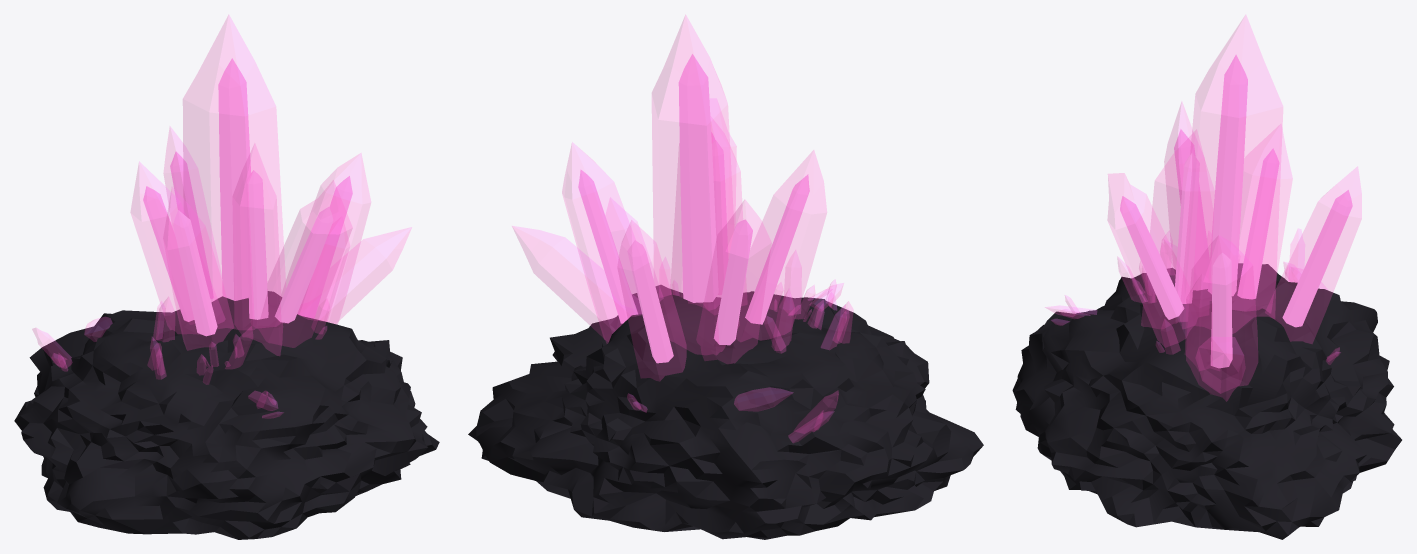
Rendered from Crystals_04_web.glb.
The picture shows the model from 3 angles, left to right: view 1: azimuth 30°, elevation 25°; view 2: azimuth 150°, elevation 25°; view 3: azimuth 270°, elevation 25°; orthographic projection. The views are drawn at different scales.
Parts seen in each view (by area): view 1: Crystals_04_Rock, Crystals_04_Crystals, Crystals_04_Cores; view 2: Crystals_04_Rock, Crystals_04_Crystals, Crystals_04_Cores; view 3: Crystals_04_Rock, Crystals_04_Crystals, Crystals_04_Cores.
Part boxes in pixels (left/top/right/bottom): Crystals_04_Rock: left=14, top=291, right=439, bottom=539; Crystals_04_Crystals: left=32, top=15, right=411, bottom=418; Crystals_04_Cores: left=143, top=58, right=352, bottom=336; Crystals_04_Rock: left=468, top=285, right=983, bottom=539; Crystals_04_Crystals: left=512, top=15, right=853, bottom=442; Crystals_04_Cores: left=578, top=54, right=809, bottom=363; Crystals_04_Rock: left=1012, top=263, right=1401, bottom=539; Crystals_04_Crystals: left=1045, top=15, right=1361, bottom=401; Crystals_04_Cores: left=1120, top=54, right=1352, bottom=368.
Size of the model in its own units: 1.94 by 1.99 by 1.61.
